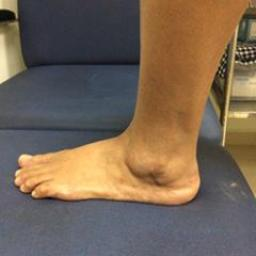Lateral View -Left Foot-: (8, 98, 214, 216)
